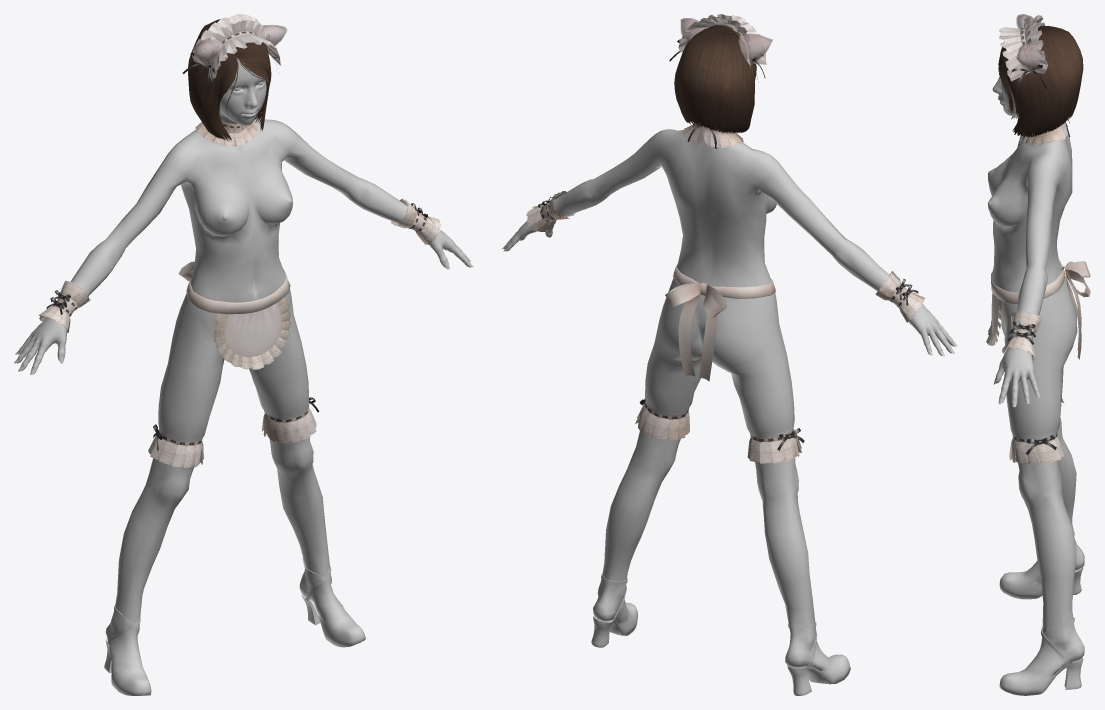
3 renders of one model, left to right at view 1: azimuth 30°, elevation 25°; view 2: azimuth 150°, elevation 25°; view 3: azimuth 270°, elevation 25°, orthographic. The views are drawn at different scales.
Parts seen in each view (by area): view 1: sdef_FaBody, sdef_FaEp, sdef_FaFair, Atama2_FaAtama_SeBoAtama_FaAtama, Atama1_FaAtama_SeBoAtama_FaAtama, select_FaAtama; view 2: sdef_FaBody, sdef_FaFair, sdef_FaEp, Atama2_FaAtama_SeBoAtama_FaAtama, Atama1_FaAtama_SeBoAtama_FaAtama; view 3: sdef_FaBody, sdef_FaFair, sdef_FaEp, Atama2_FaAtama_SeBoAtama_FaAtama, Atama1_FaAtama_SeBoAtama_FaAtama, FaRibonWrist_L_, select_FaAtama, sdef_FaRibonHd_L_.
Part boxes in pixels (box(x1,y1,x2,y2)): sdef_FaBody: box(14, 58, 473, 695); sdef_FaEp: box(178, 261, 290, 369); sdef_FaFair: box(188, 19, 271, 141); Atama2_FaAtama_SeBoAtama_FaAtama: box(192, 14, 280, 81); Atama1_FaAtama_SeBoAtama_FaAtama: box(194, 24, 287, 66); select_FaAtama: box(201, 20, 264, 61); sdef_FaBody: box(502, 123, 957, 695); sdef_FaFair: box(674, 25, 756, 133); sdef_FaEp: box(665, 264, 775, 381); Atama2_FaAtama_SeBoAtama_FaAtama: box(678, 15, 766, 68); Atama1_FaAtama_SeBoAtama_FaAtama: box(680, 18, 772, 64); sdef_FaBody: box(988, 76, 1084, 695); sdef_FaFair: box(998, 26, 1083, 137); sdef_FaEp: box(986, 259, 1090, 359); Atama2_FaAtama_SeBoAtama_FaAtama: box(999, 15, 1048, 81); Atama1_FaAtama_SeBoAtama_FaAtama: box(1016, 14, 1040, 72); FaRibonWrist_L_: box(1007, 321, 1035, 344); select_FaAtama: box(1024, 16, 1036, 66); sdef_FaRibonHd_L_: box(1011, 64, 1046, 93).
Bounding box in the file's own units: 264 × 361 × 54.76.
